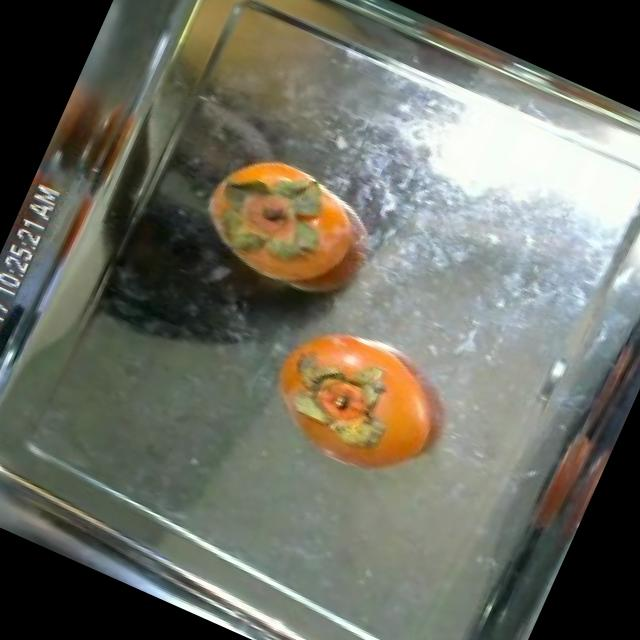Fruit: (170, 126, 406, 328), (247, 302, 417, 464)
